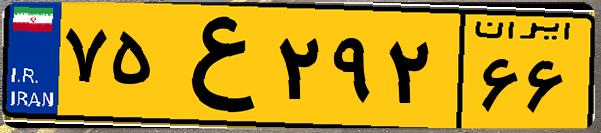2: (270, 28, 330, 110), (385, 28, 445, 110)
5: (110, 28, 158, 98)
6: (475, 38, 525, 113), (525, 38, 570, 115)
7: (57, 26, 110, 100)
9: (330, 28, 385, 110)
ع: (158, 12, 270, 120)
